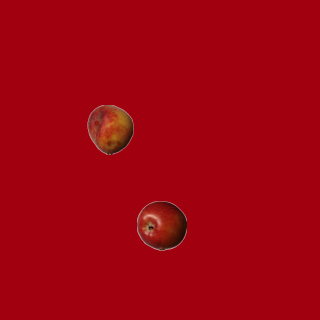Apple Braeburn: (136, 200, 186, 250)
Peach: (85, 104, 135, 154)
